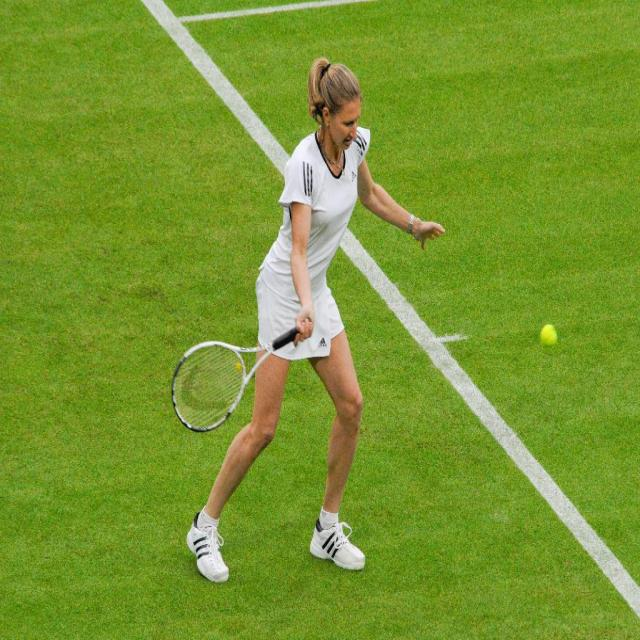Tennis ball: (540, 323, 558, 346)
